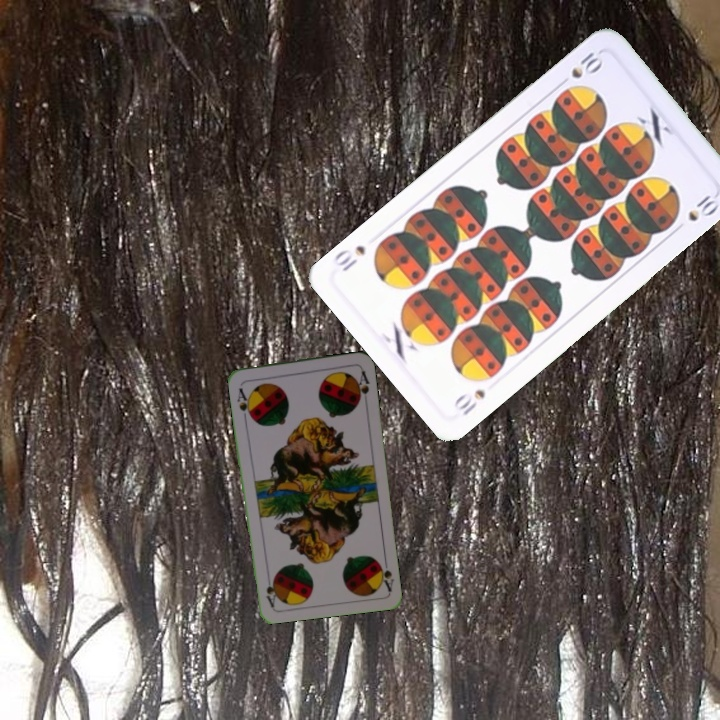S10: (554, 46, 606, 90), (449, 385, 488, 419)
SA: (374, 553, 396, 594), (233, 384, 255, 421)
